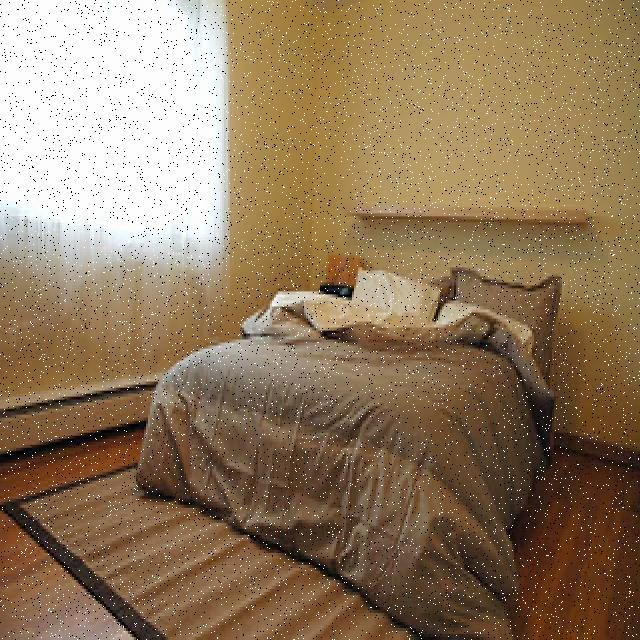bed: (149, 266, 563, 527)
